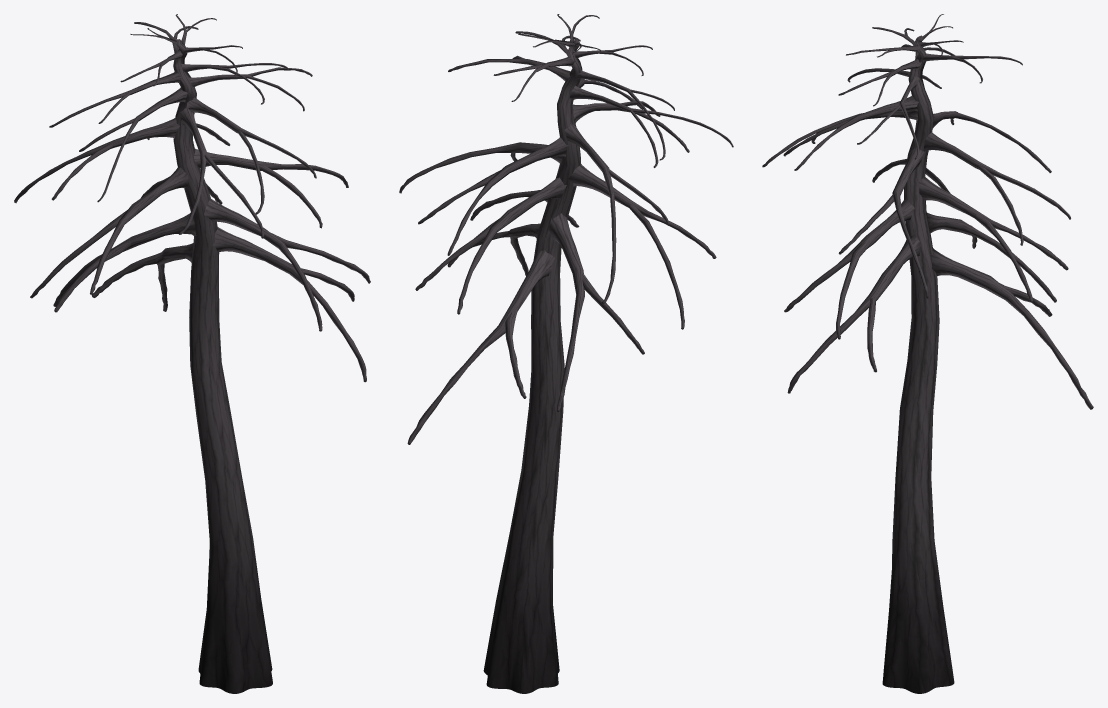
The model's file is deadtree_3.gltf.
The picture shows the model from 3 angles, left to right: view 1: azimuth 30°, elevation 25°; view 2: azimuth 150°, elevation 25°; view 3: azimuth 270°, elevation 25°; orthographic projection. The views are drawn at different scales.
Visible parts, largest first — view 1: DeadTree_3; view 2: DeadTree_3; view 3: DeadTree_3.
Boxes of the visible parts, x1,y1,x2,y2 form: DeadTree_3: [14, 14, 370, 693]; DeadTree_3: [399, 14, 733, 693]; DeadTree_3: [762, 14, 1093, 693].
Size of the model in its own units: 6.39 by 13.28 by 6.43.
Materials: 1 (1 with a texture image).
